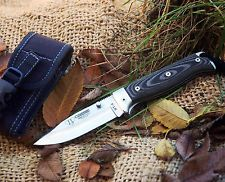knife: (30, 84, 141, 147)
